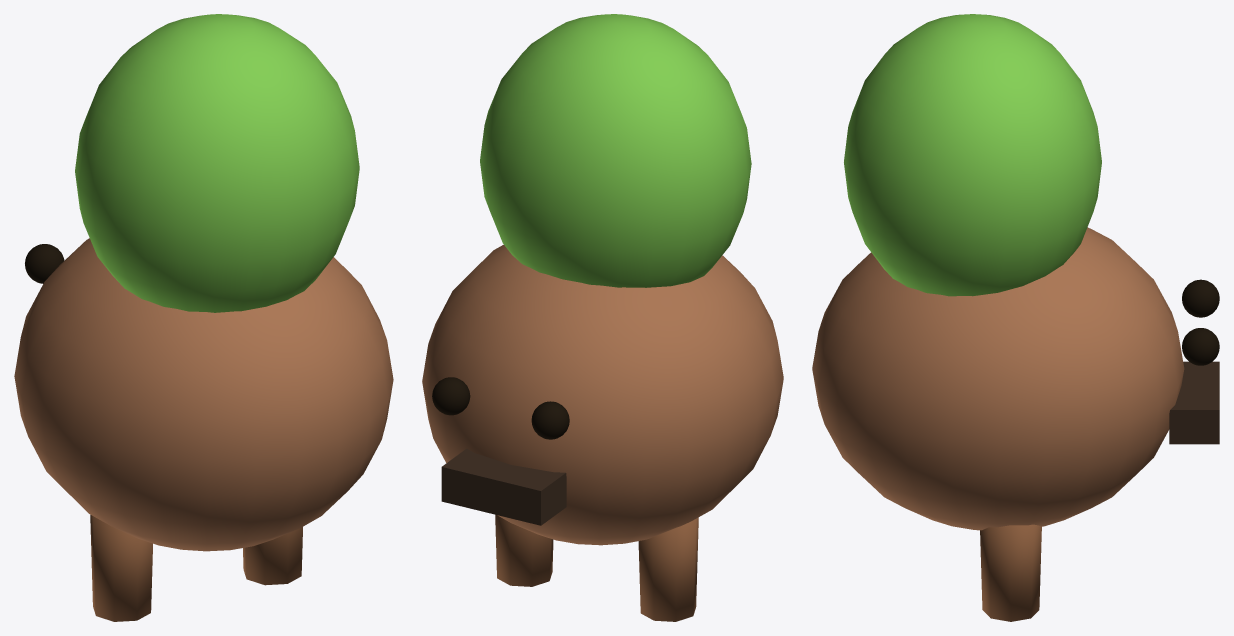
File: baneling.glb
3 renders of one model, left to right at view 1: azimuth 30°, elevation 25°; view 2: azimuth 150°, elevation 25°; view 3: azimuth 270°, elevation 25°, orthographic. The views are drawn at different scales.
Visible parts, largest first — view 1: ba_body.001, ba_sac.001, ba_leg-1.001, ba_leg1.001, ba_eye-1.001; view 2: ba_body.001, ba_sac.001, ba_mouth.001, ba_leg-1.001, ba_leg1.001, ba_eye-1.001, ba_eye1.001; view 3: ba_body.001, ba_sac.001, ba_leg1.001, ba_mouth.001, ba_eye-1.001, ba_eye1.001.
Part boxes in pixels (<box>): ba_body.001: <box>14,238,393,551</box>; ba_sac.001: <box>75,14,359,312</box>; ba_leg-1.001: <box>90,515,152,621</box>; ba_leg1.001: <box>243,527,302,585</box>; ba_eye-1.001: <box>25,244,64,283</box>; ba_body.001: <box>422,244,783,545</box>; ba_sac.001: <box>480,14,751,287</box>; ba_mouth.001: <box>441,448,566,525</box>; ba_leg-1.001: <box>638,517,698,621</box>; ba_leg1.001: <box>495,514,553,586</box>; ba_eye-1.001: <box>531,401,569,439</box>; ba_eye1.001: <box>432,377,470,415</box>; ba_body.001: <box>812,227,1184,530</box>; ba_sac.001: <box>844,14,1101,296</box>; ba_leg1.001: <box>980,524,1041,621</box>; ba_mouth.001: <box>1169,361,1219,444</box>; ba_eye-1.001: <box>1182,279,1219,317</box>; ba_eye1.001: <box>1182,328,1219,365</box>.
Size of the model in its own units: 0.56 by 0.96 by 0.644.
